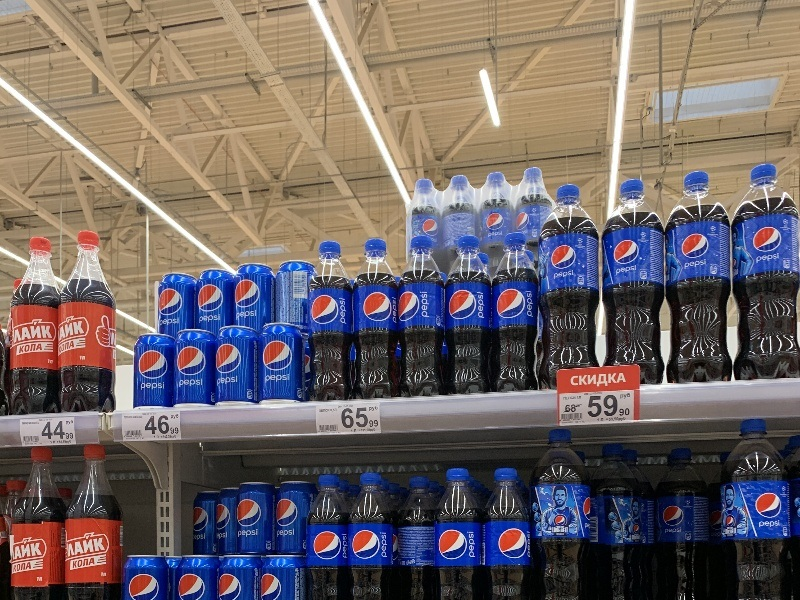lemonade: (590, 174, 676, 391), (658, 168, 737, 389), (727, 160, 797, 389), (534, 182, 601, 394), (56, 226, 125, 418), (8, 232, 73, 420), (389, 232, 453, 403), (298, 239, 363, 404), (346, 234, 408, 400), (488, 229, 548, 397), (441, 233, 499, 400)
